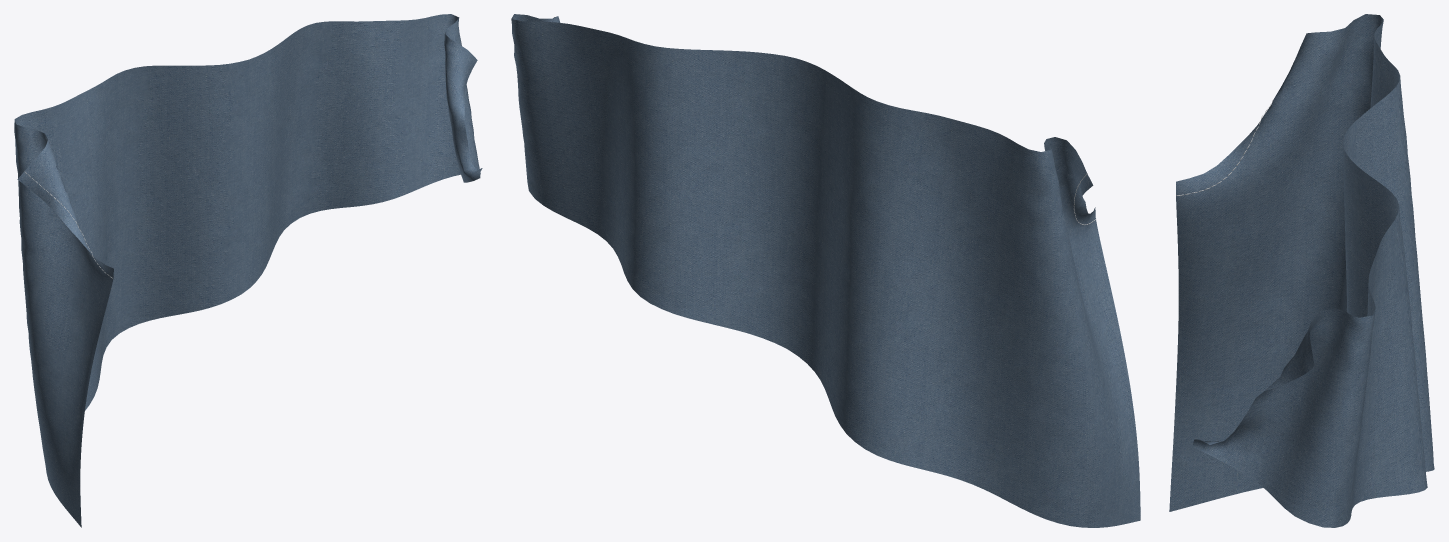
Rendered from sz2houzhq.glb.
The picture shows the model from 3 angles, left to right: view 1: azimuth 30°, elevation 25°; view 2: azimuth 150°, elevation 25°; view 3: azimuth 270°, elevation 25°; orthographic projection. The views are drawn at different scales.
Parts seen in each view (by area): view 1: sz2houzhq; view 2: sz2houzhq; view 3: sz2houzhq.
Boxes of the visible parts, bbox=[...] form: sz2houzhq: bbox=[14, 14, 482, 527]; sz2houzhq: bbox=[511, 14, 1140, 527]; sz2houzhq: bbox=[1169, 14, 1434, 527].
Size of the model in its own units: 3.84 by 2.95 by 1.35.
Materials: 2 (2 with a texture image).
